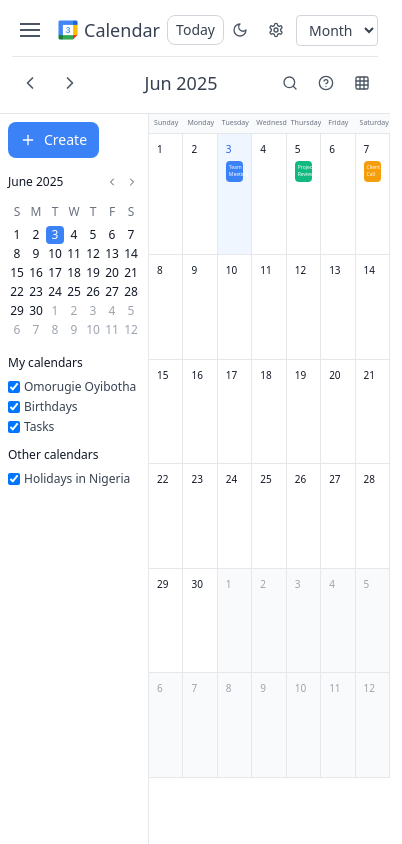
Test: CalendarApp › navigates to previous month when prev button is clicked
What coordinates should you click on to do the following:
click the button with test id "prev-button"
I would click on:
 (30, 83)
Its box is [12, 65, 48, 101].
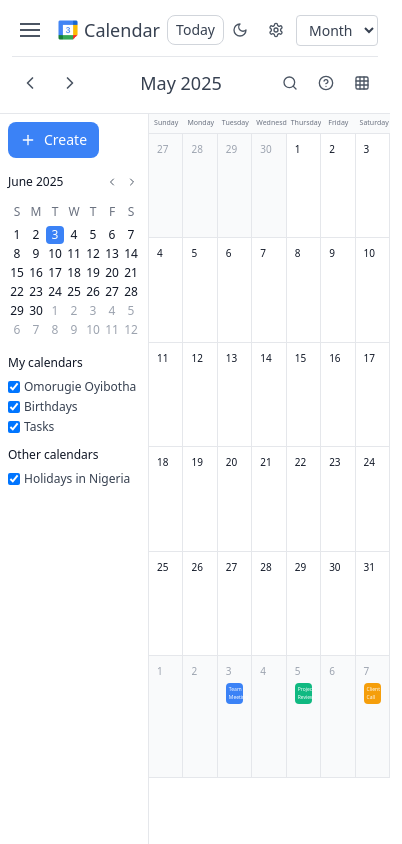
Now the heading "May 2025" is shown, box [140, 69, 222, 97]
